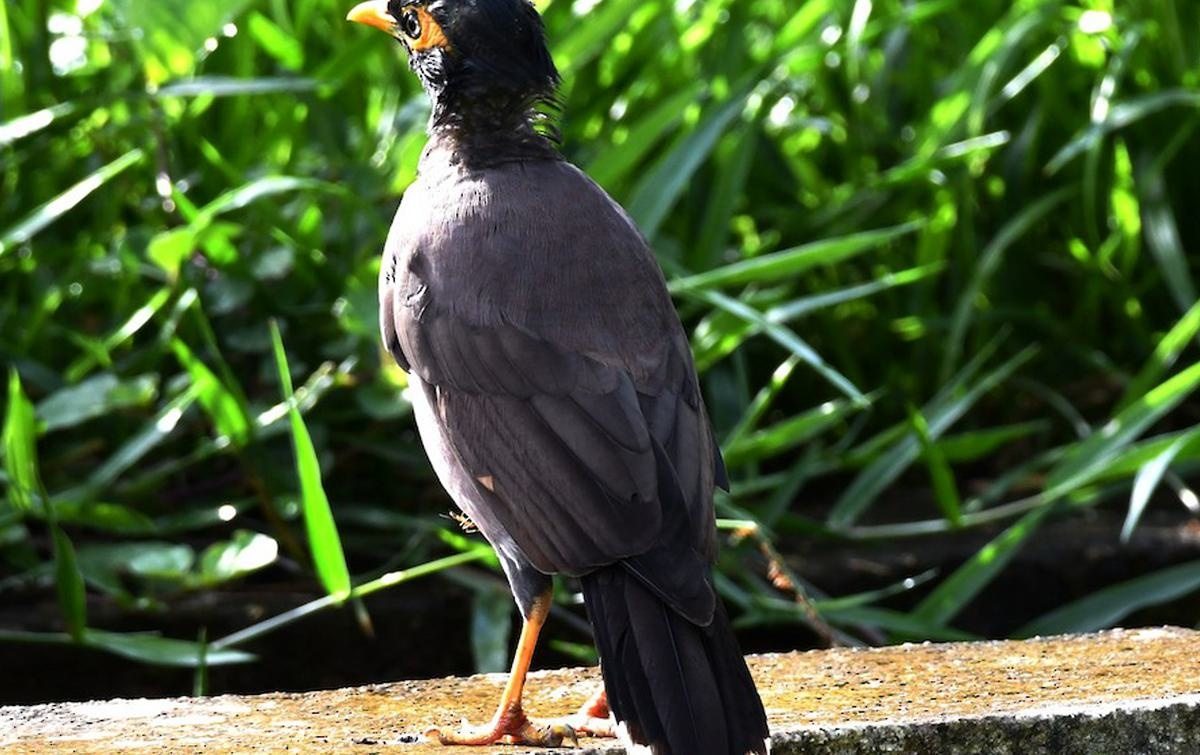myna: (348, 7, 735, 617)
